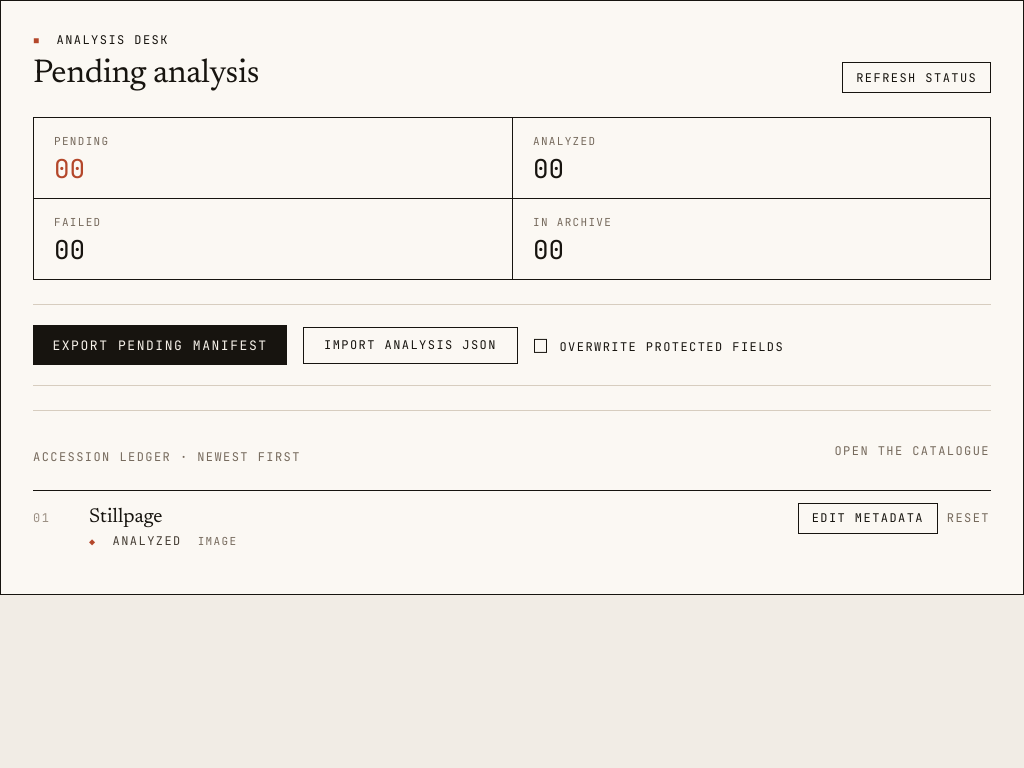
Test: resetting an analysis › returns a reference to the pending queue
Expected: the link "Stillpage" is shown, [89,507,163,527]
What coordinates should you click on to do the following:
click the button "Reset"
I would click on:
 (968, 518)
Its box is [946,503,991,534].
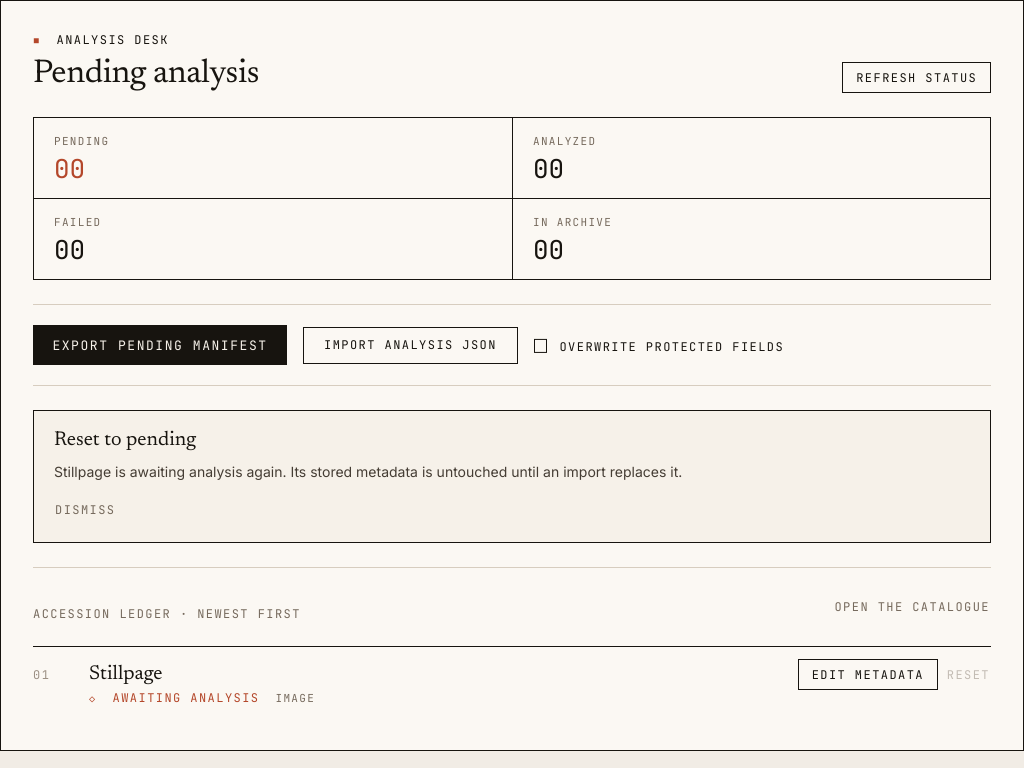
Result: the message shows "Reset to pending" at [54,430,196,450]
Result: the message shows "Stillpage is awaiting analysis again" at [54,463,682,480]
